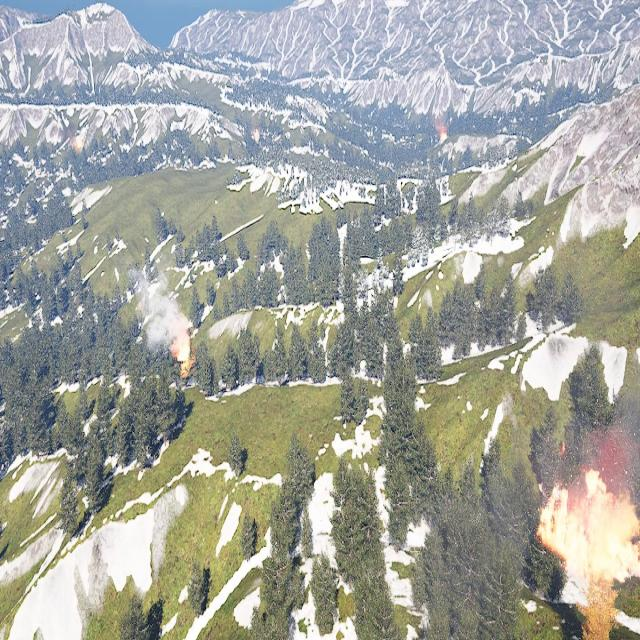fire: (538, 466, 640, 587), (174, 332, 192, 374), (253, 128, 260, 144), (440, 130, 448, 142), (74, 138, 82, 150)
smoke: (563, 407, 640, 496), (129, 268, 189, 348), (429, 110, 446, 134)
